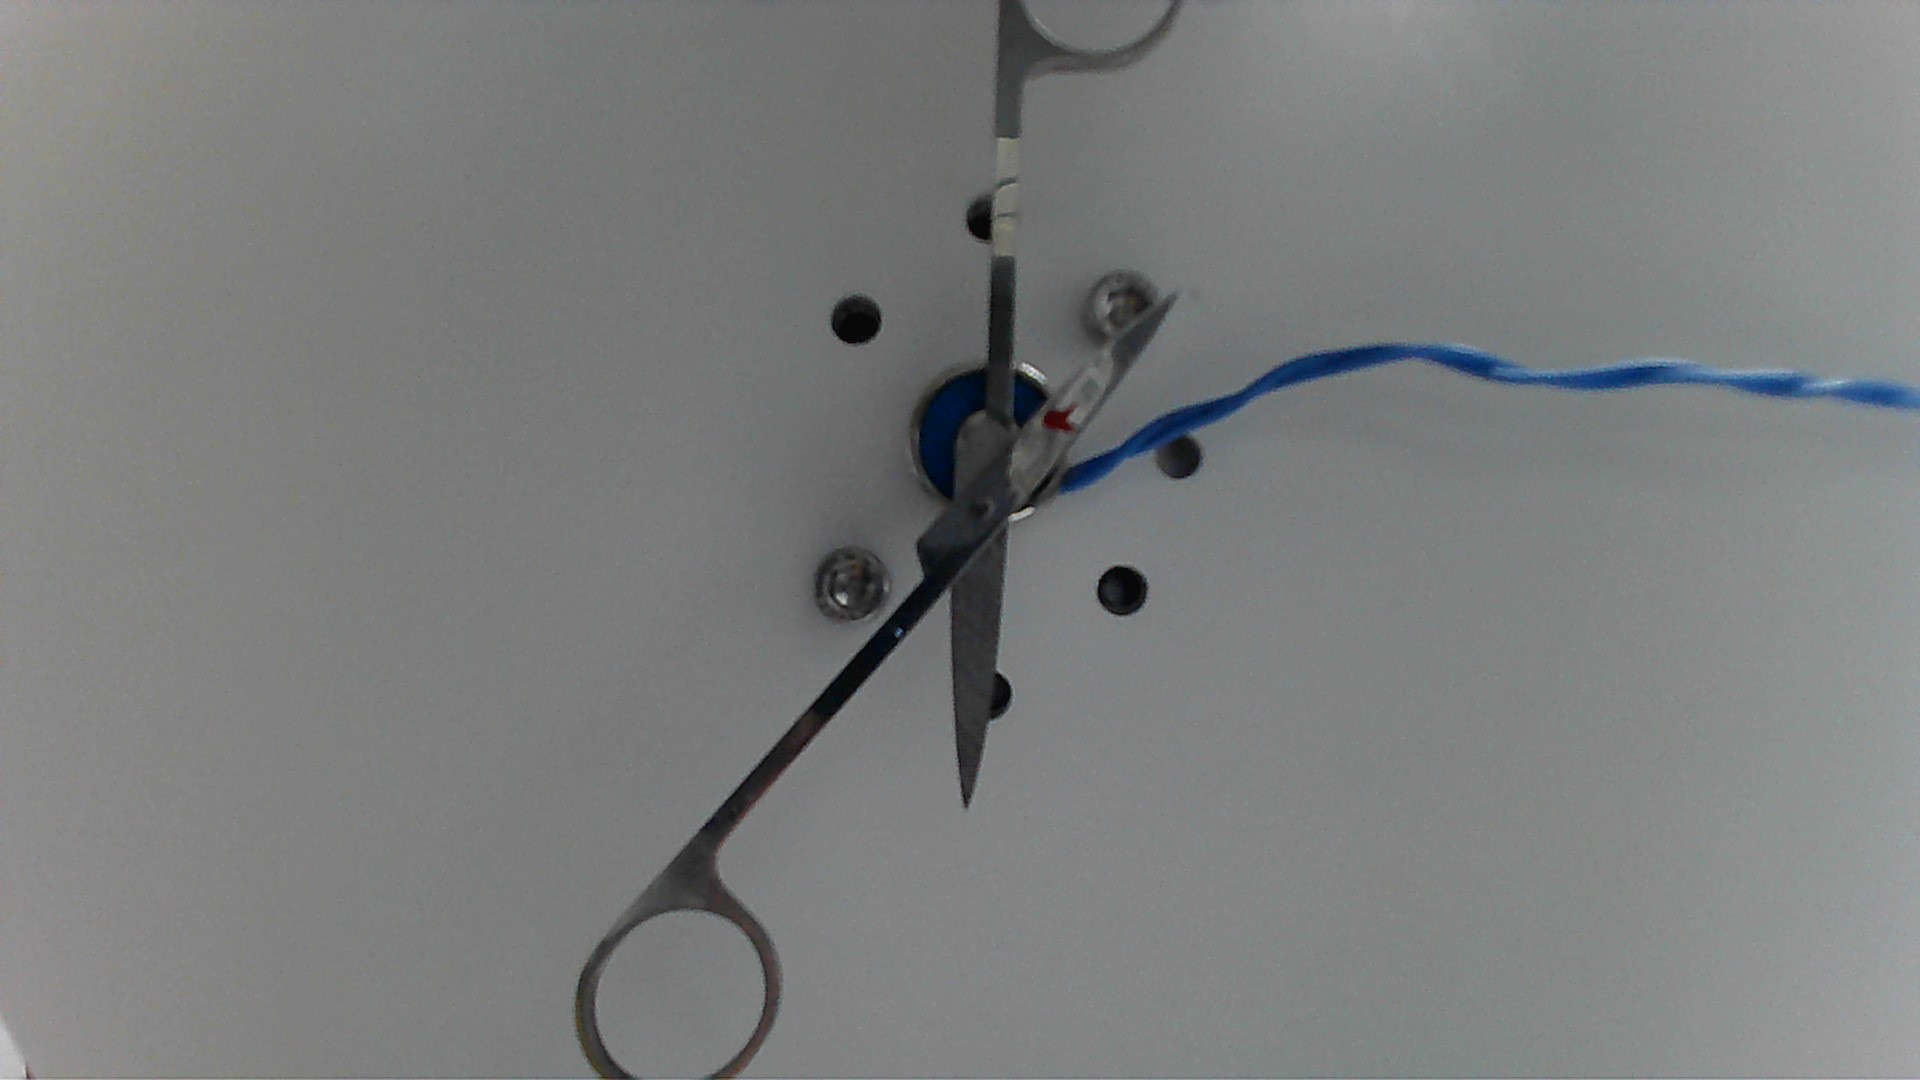Stain: (1036, 404, 1091, 443)
